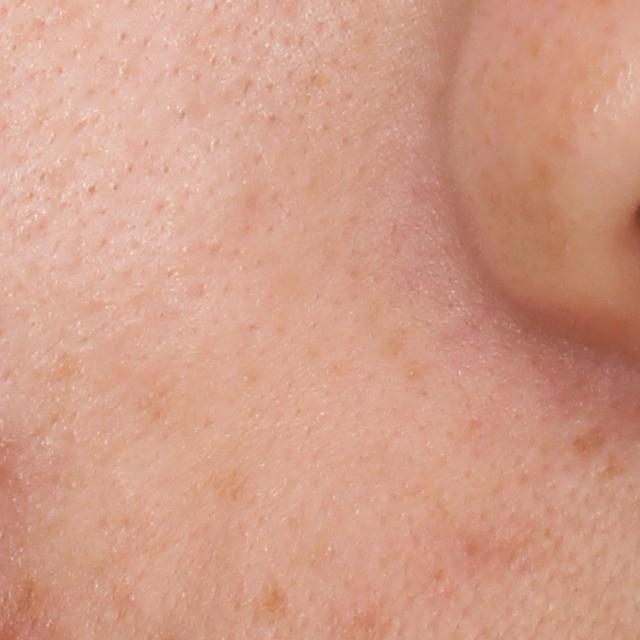melasma: (569, 424, 611, 456)
